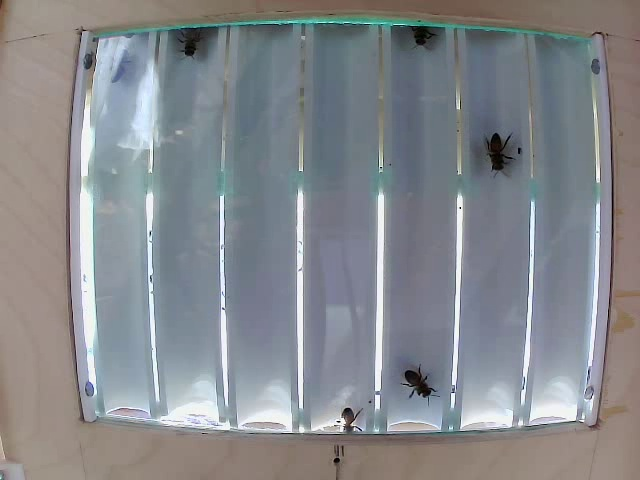bee: (471, 128, 514, 179), (411, 19, 449, 65), (409, 352, 444, 401), (172, 32, 206, 58)
